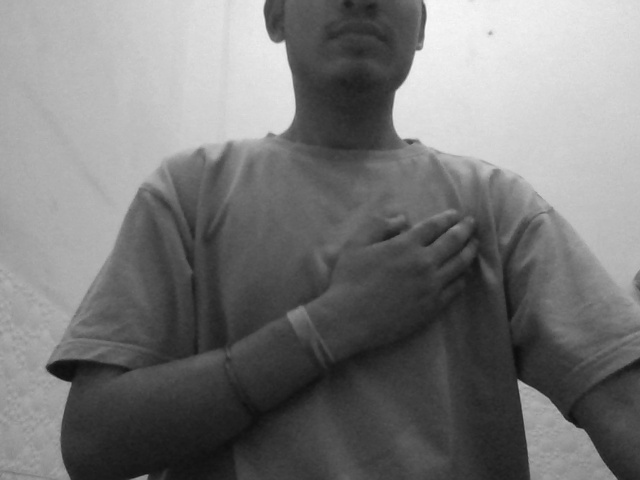Sorry: (263, 192, 513, 370)
